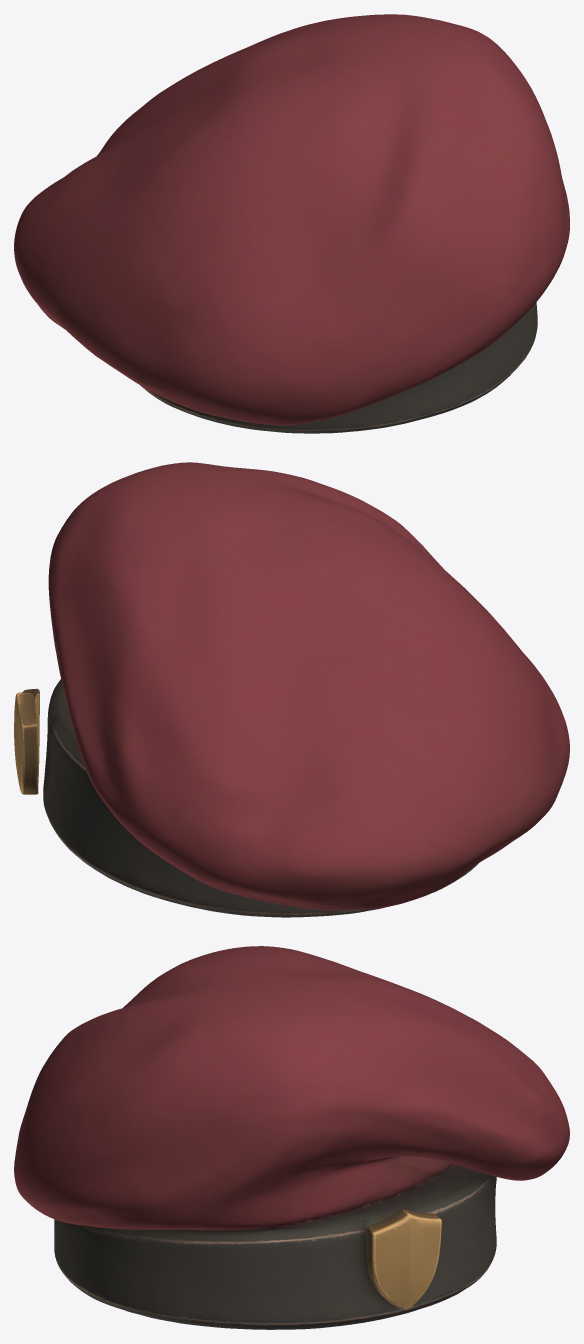
Rendered from headgear_beret_tripo_raw.glb.
The picture shows the model from 3 angles, top to bottom: view 1: azimuth 30°, elevation 25°; view 2: azimuth 150°, elevation 25°; view 3: azimuth 270°, elevation 25°; orthographic projection. The views are drawn at different scales.
Visible parts, largest first — view 1: tripo_node_d3d9dae9-149d-4db2-89d3-39e12e825d6b; view 2: tripo_node_d3d9dae9-149d-4db2-89d3-39e12e825d6b; view 3: tripo_node_d3d9dae9-149d-4db2-89d3-39e12e825d6b.
Boxes of the visible parts, box(x1,y1,x2,y2) form: tripo_node_d3d9dae9-149d-4db2-89d3-39e12e825d6b: box(14, 14, 569, 433); tripo_node_d3d9dae9-149d-4db2-89d3-39e12e825d6b: box(14, 462, 569, 917); tripo_node_d3d9dae9-149d-4db2-89d3-39e12e825d6b: box(14, 946, 569, 1329).
Size of the model in its own units: 0.9474 by 0.6167 by 1.
1 material, 1 textured.
